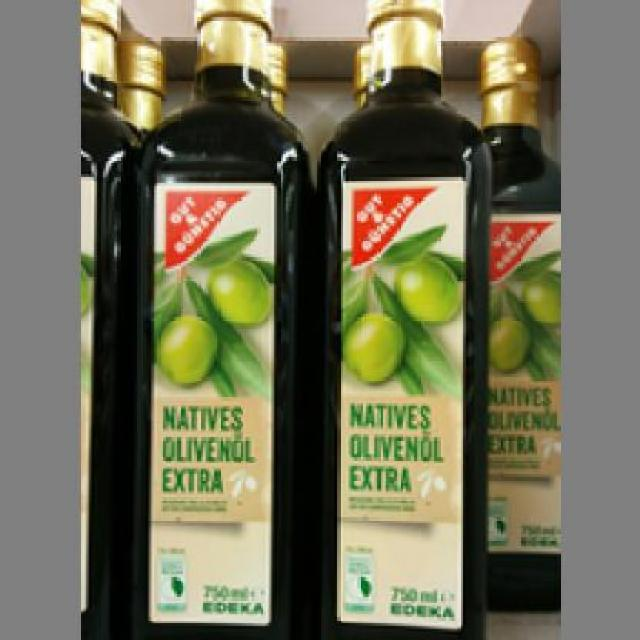Oil: (123, 0, 306, 637), (314, 0, 490, 637)
